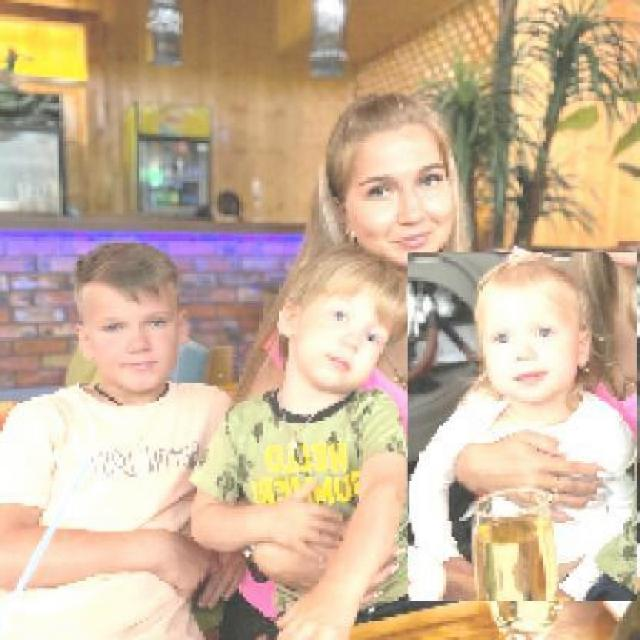child: (185, 245, 461, 638), (406, 253, 637, 602)
